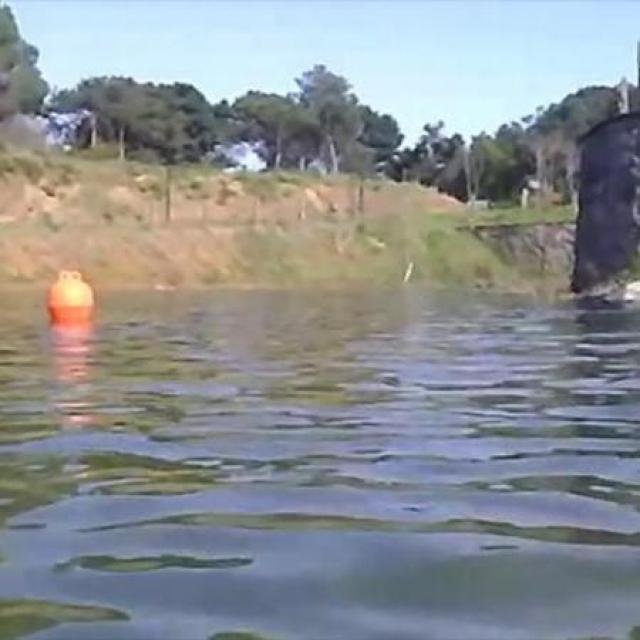buoy: (42, 267, 97, 323)
